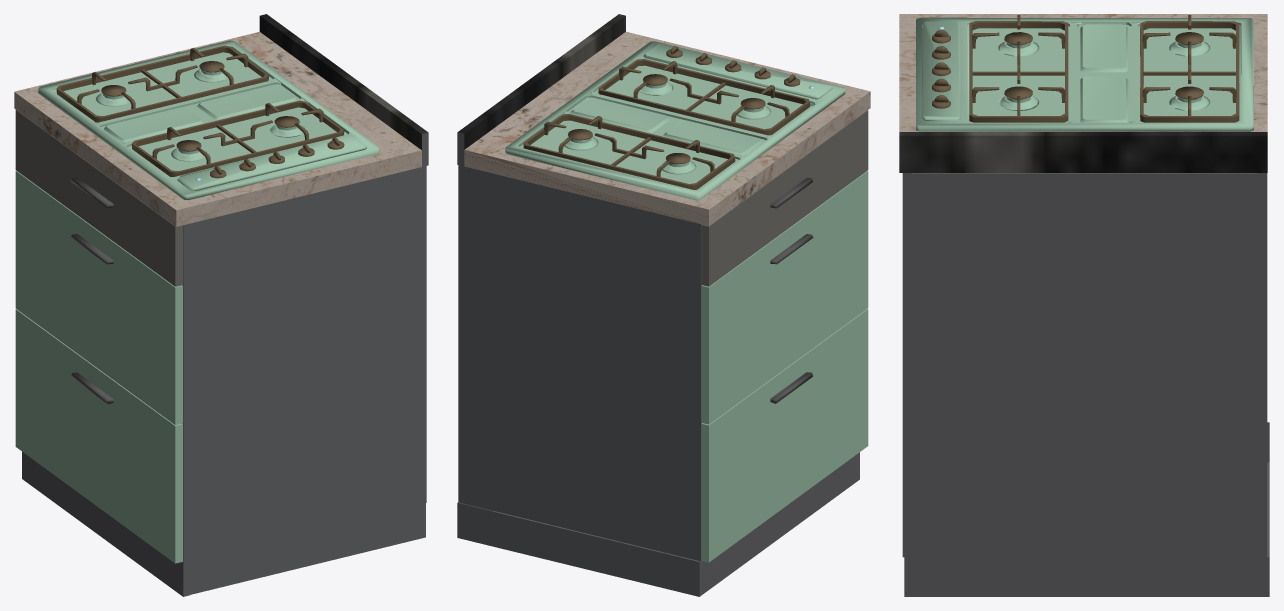
Rendered from table_cook_frying.fbx.
The picture shows the model from 3 angles, left to right: view 1: azimuth 30°, elevation 25°; view 2: azimuth 150°, elevation 25°; view 3: azimuth 270°, elevation 25°; orthographic projection. The views are drawn at different scales.
Parts seen in each view (by area): view 1: table_cook_frying; view 2: table_cook_frying; view 3: table_cook_frying.
Boxes of the visible parts, x1,y1,x2,y2 form: table_cook_frying: [14, 14, 428, 596]; table_cook_frying: [457, 14, 870, 596]; table_cook_frying: [899, 14, 1269, 596].
Size of the model in its own units: 17.51 by 19.13 by 26.3.
8 materials, 2 textured.
